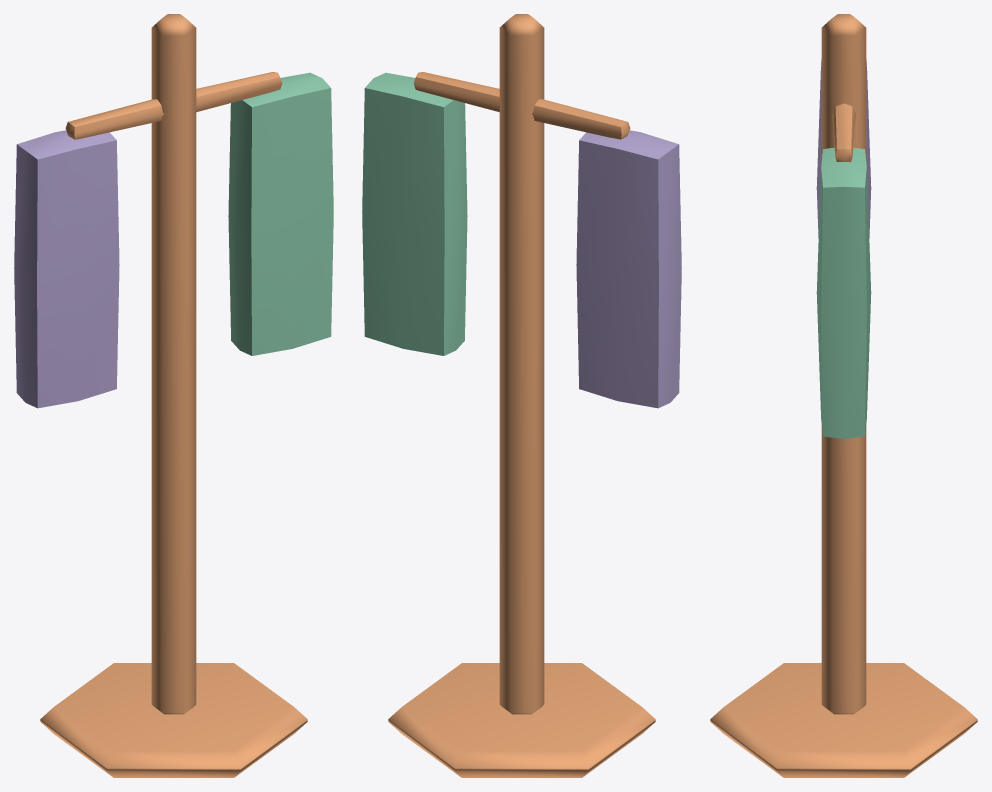
Rendered from coat-rack.glb.
The picture shows the model from 3 angles, left to right: view 1: azimuth 30°, elevation 25°; view 2: azimuth 150°, elevation 25°; view 3: azimuth 270°, elevation 25°; orthographic projection.
Visible parts, largest first — view 1: part (×5); view 2: part (×5); view 3: part (×5).
Boxes of the visible parts, x1,y1,x2,y2 form: part (×5): (14, 14, 333, 777); part (×5): (362, 14, 681, 777); part (×5): (710, 14, 977, 777).
Bounding box in the file's own units: 0.71 × 1.59 × 0.54.
Materials: 1 (1 with a texture image).
